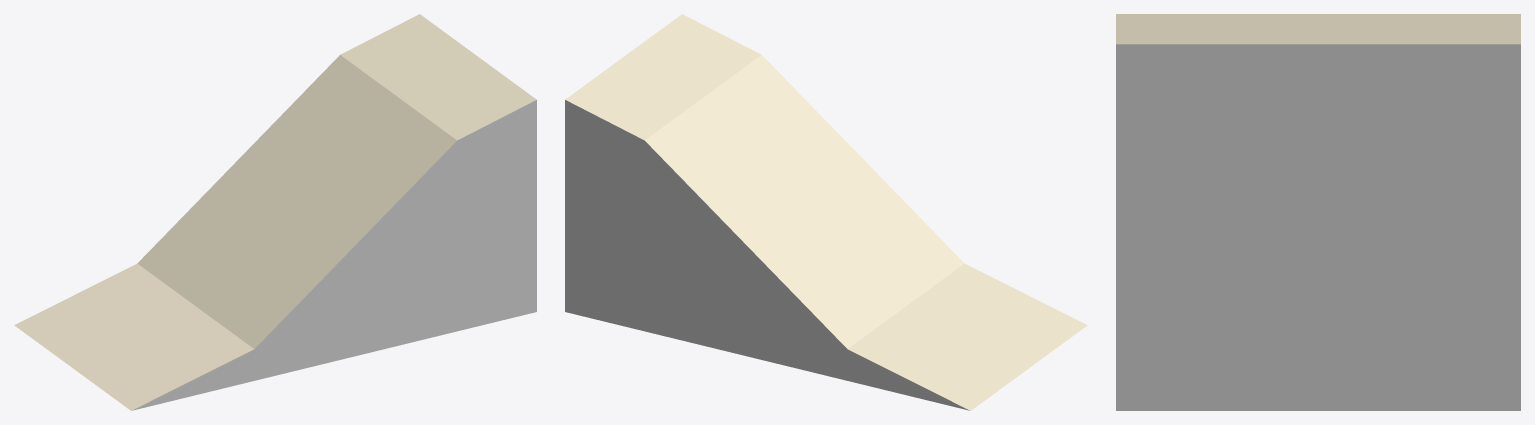
Rendered from Path_Terrain_Incline_Sharp_Center_1x2.fbx.
The picture shows the model from 3 angles, left to right: view 1: azimuth 30°, elevation 25°; view 2: azimuth 150°, elevation 25°; view 3: azimuth 270°, elevation 25°; orthographic projection. The views are drawn at different scales.
Visible parts, largest first — view 1: Path_Terrain_Incline_Sharp_Center_1x2; view 2: Path_Terrain_Incline_Sharp_Center_1x2; view 3: Path_Terrain_Incline_Sharp_Center_1x2.
Part boxes in pixels (left/top/right/bottom): Path_Terrain_Incline_Sharp_Center_1x2: left=14, top=14, right=536, bottom=410; Path_Terrain_Incline_Sharp_Center_1x2: left=565, top=14, right=1087, bottom=410; Path_Terrain_Incline_Sharp_Center_1x2: left=1116, top=14, right=1520, bottom=410.
Bounding box in the file's own units: 200 × 100 × 100.
